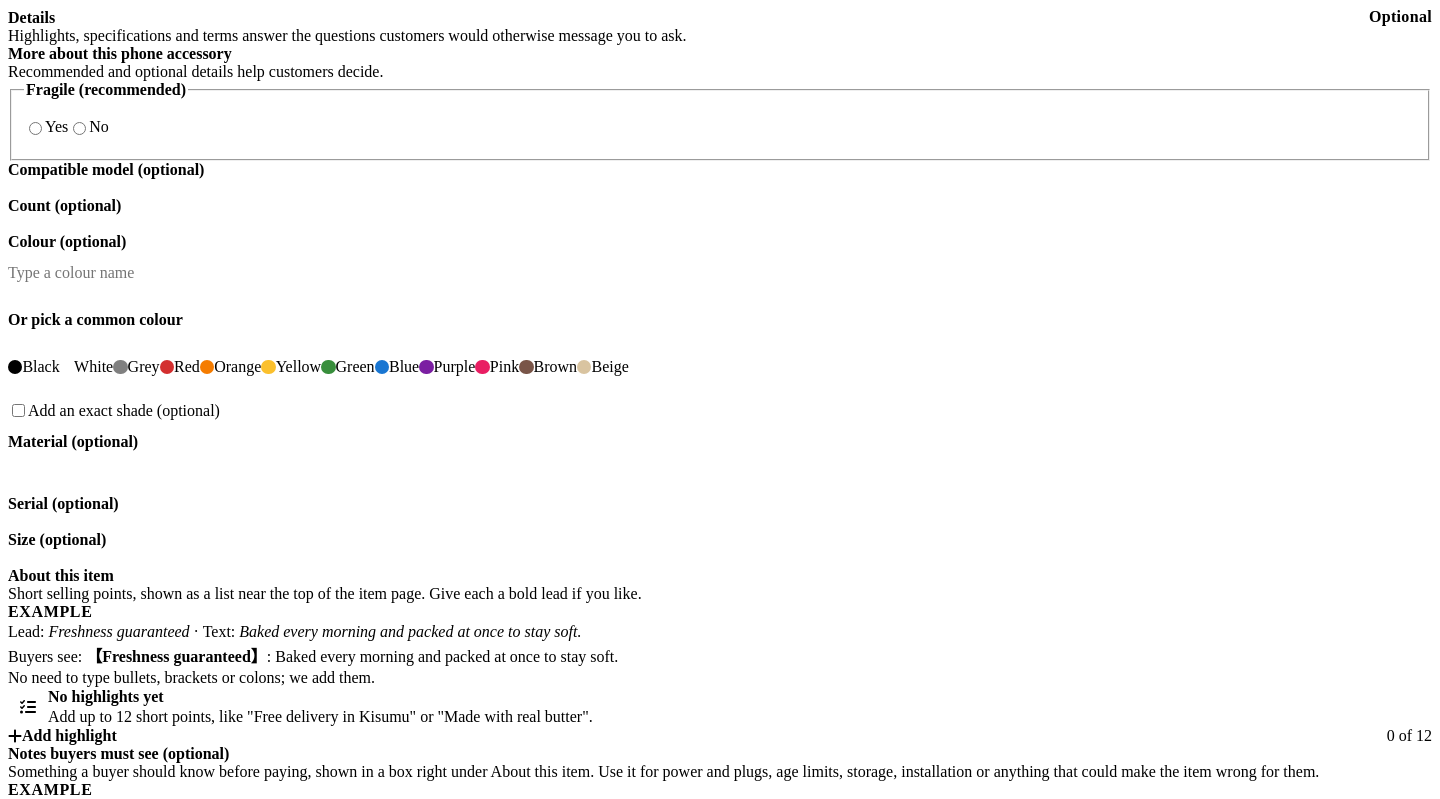
Test: row inputs write the item's specifications › a value nobody has used is added as typed and pending, and its id is kept for linking
The width and height of the screenshot is (1440, 799).
Type "Teak oak" into the dropdown labelled "Material (optional)" at (720, 473), box x1=8 y1=451 x2=1432 y2=495
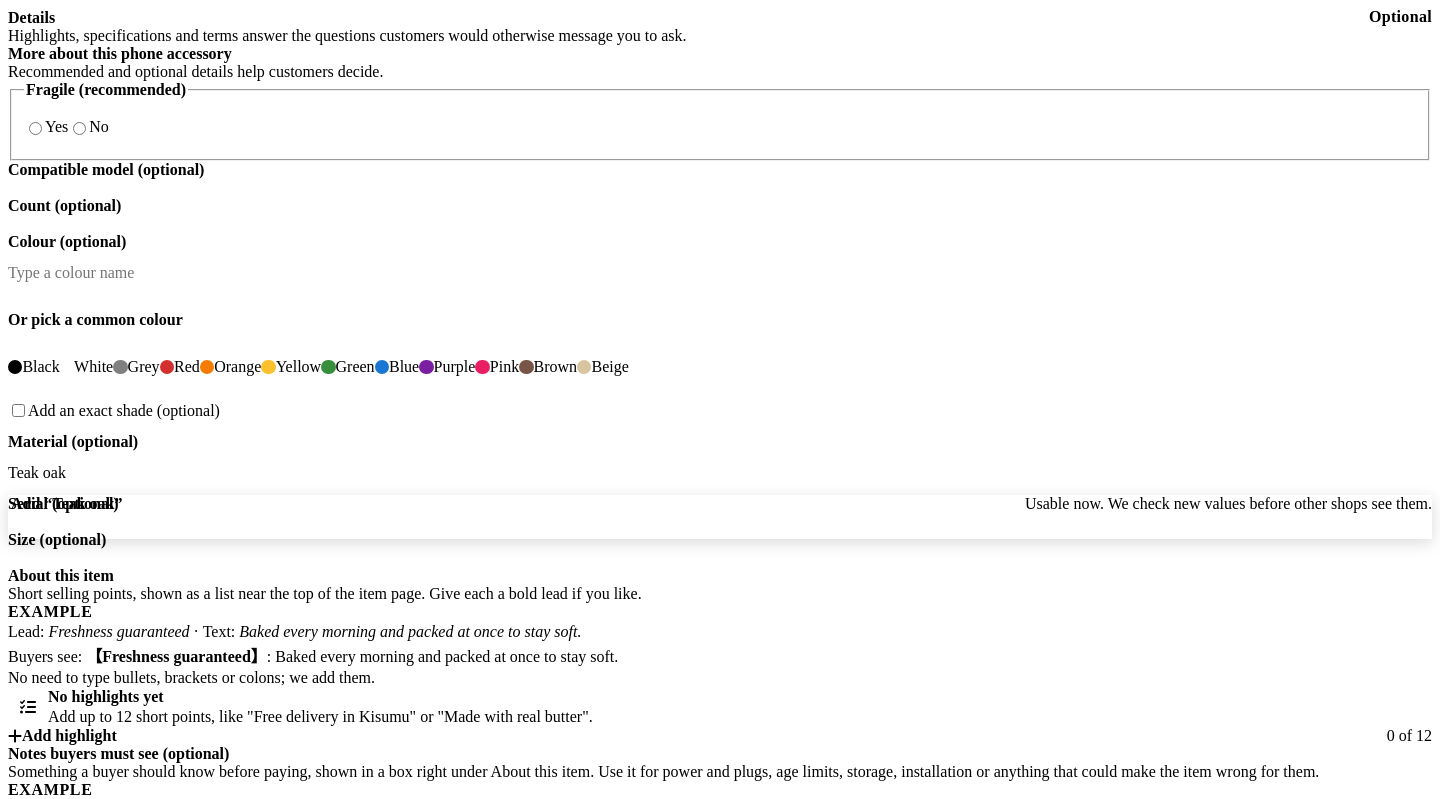
Click the option named "Add .Teak oak." at (67, 503), box x1=11 y1=495 x2=1432 y2=512
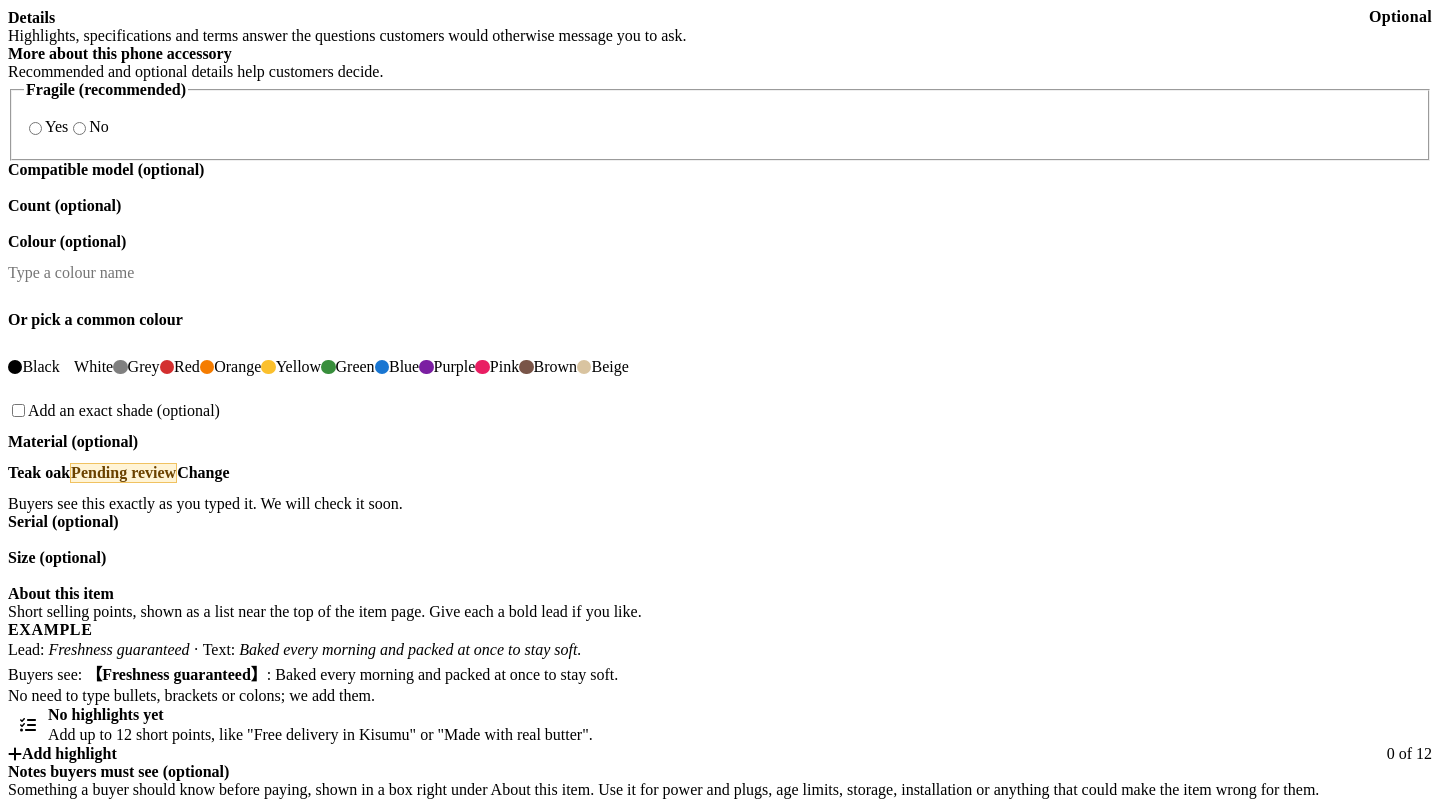
expect the text "Pending review" is shown: met, box x1=70 y1=463 x2=177 y2=483
